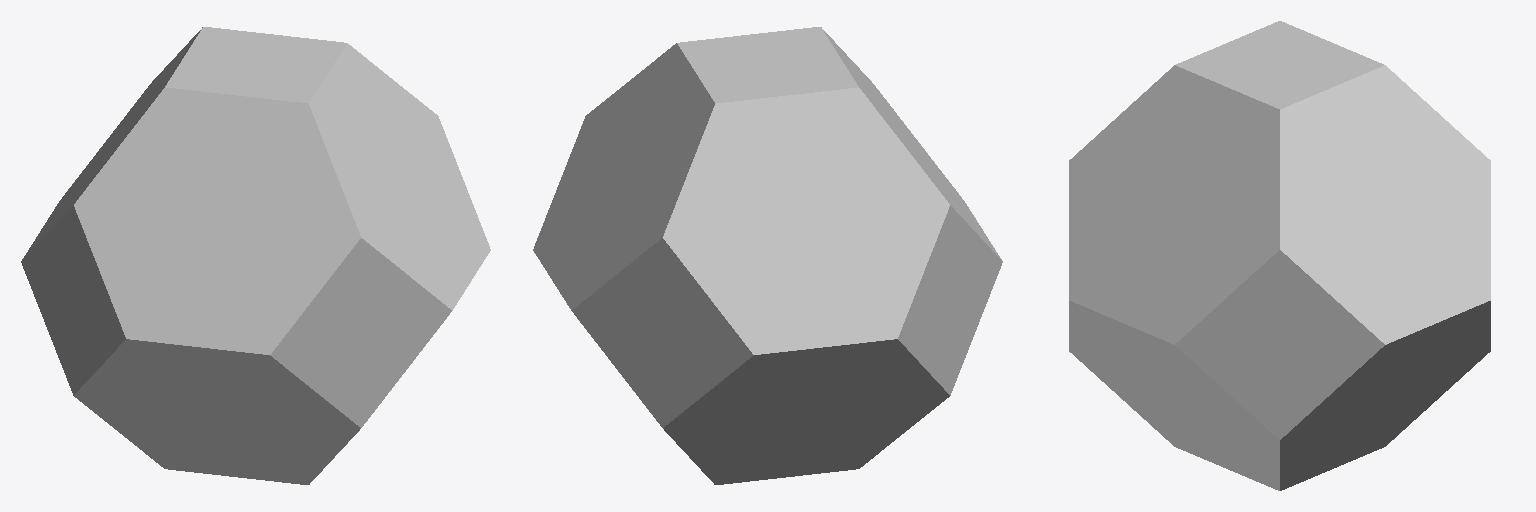
The model's file is ladrilobase.obj.
3 renders of one model, left to right at view 1: azimuth 30°, elevation 25°; view 2: azimuth 150°, elevation 25°; view 3: azimuth 270°, elevation 25°, orthographic.
Visible parts, largest first — view 1: Cube; view 2: Cube; view 3: Cube.
Boxes of the visible parts, x1,y1,x2,y2 form: Cube: [21, 27, 490, 484]; Cube: [533, 27, 1002, 484]; Cube: [1069, 21, 1490, 490].
Size of the model in its own units: 2 by 2 by 2.